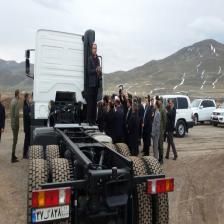plate: (31, 204, 69, 224)
